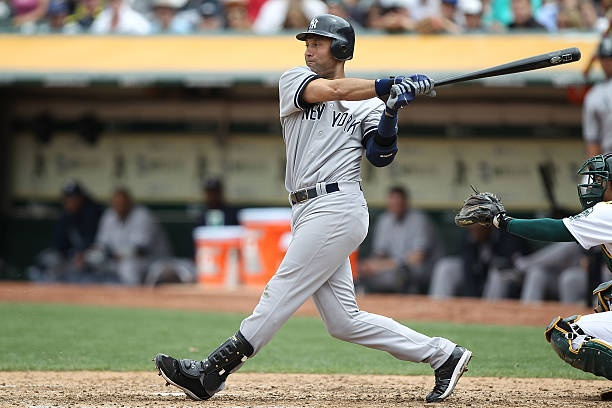bita: (425, 49, 583, 92)
